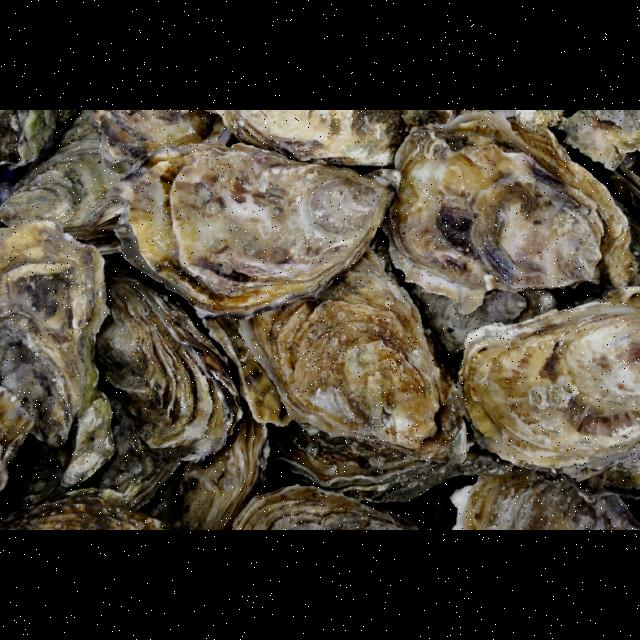Oyster-Closed: (114, 144, 402, 318), (236, 252, 439, 450), (388, 144, 606, 317), (395, 112, 625, 254), (458, 304, 640, 477), (0, 110, 235, 240), (98, 265, 242, 461), (266, 359, 467, 489), (0, 222, 107, 450), (153, 400, 267, 531), (223, 110, 457, 169), (509, 121, 628, 232), (450, 467, 640, 531), (78, 393, 180, 507), (412, 286, 559, 355), (232, 486, 427, 531), (0, 490, 164, 531), (557, 110, 640, 169), (62, 393, 113, 486), (444, 293, 526, 349), (0, 387, 32, 491), (582, 455, 640, 501), (596, 164, 640, 212)
